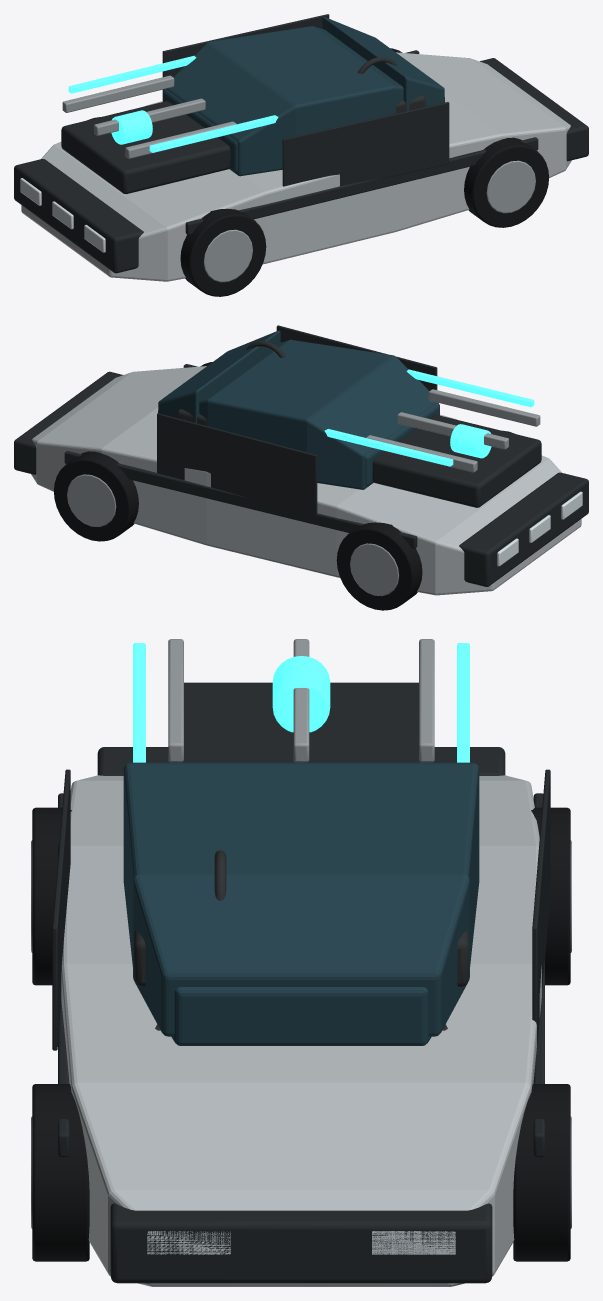
Rendered from HeroTimeMachine.fbx.
The picture shows the model from 3 angles, top to bottom: view 1: azimuth 30°, elevation 25°; view 2: azimuth 150°, elevation 25°; view 3: azimuth 270°, elevation 25°; orthographic projection. The views are drawn at different scales.
Parts seen in each view (by area): view 1: BodyShell, RoofShell, DoorSeam_R, TimeMachinery, RearFascia, Wheel_FL, Wheel_RL, GlassSet, BeltTrim_R, Wheel_FL_Hub, Wheel_RL_Hub, FrontFascia (+8 smaller); view 2: BodyShell, RoofShell, DoorSeam_L, TimeMachinery, RearFascia, Wheel_FR, Wheel_RR, BeltTrim, GlassSet, Wheel_FR_Hub, Wheel_RR_Hub, FrontFascia (+8 smaller); view 3: BodyShell, RoofShell, GlassSet, FrontFascia, TimeMachinery, Wheel_FL, Wheel_FR, Wheel_RL, Wheel_RR, FluxReactor, DoorSeam_L, DoorSeam_R (+11 smaller).
Part boxes in pixels (x1,y1,x2,y2): BodyShell: (21,52,571,281); RoofShell: (166,26,403,176); DoorSeam_R: (282,102,449,186); TimeMachinery: (61,101,230,194); RearFascia: (14,159,143,273); Wheel_FL: (464,137,549,227); Wheel_RL: (180,208,266,296); GlassSet: (322,17,444,111); BeltTrim_R: (185,137,538,235); Wheel_FL_Hub: (486,160,535,213); Wheel_RL_Hub: (203,229,252,282); FrontFascia: (480,58,588,161); BodyShell: (31,366,581,595); RoofShell: (199,339,438,489); DoorSeam_L: (157,413,317,516); TimeMachinery: (372,415,541,507); RearFascia: (459,472,588,586); Wheel_FR: (53,451,138,541); Wheel_RR: (336,522,422,610); BeltTrim: (64,451,417,548); GlassSet: (158,330,280,423); Wheel_FR_Hub: (67,474,116,526); Wheel_RR_Hub: (350,543,399,596); FrontFascia: (14,371,122,474); BodyShell: (61,775,541,1286); RoofShell: (123,762,479,1045); GlassSet: (133,874,469,1036); FrontFascia: (110,1203,492,1283); TimeMachinery: (173,682,429,762); Wheel_FL: (32,1084,89,1261); Wheel_FR: (513,1084,570,1261); Wheel_RL: (32,807,71,985); Wheel_RR: (531,807,570,985); FluxReactor: (272,656,330,732); DoorSeam_L: (532,769,550,1045); DoorSeam_R: (52,769,70,1050).
Bounding box in the file's own units: 425 × 207 × 132.
